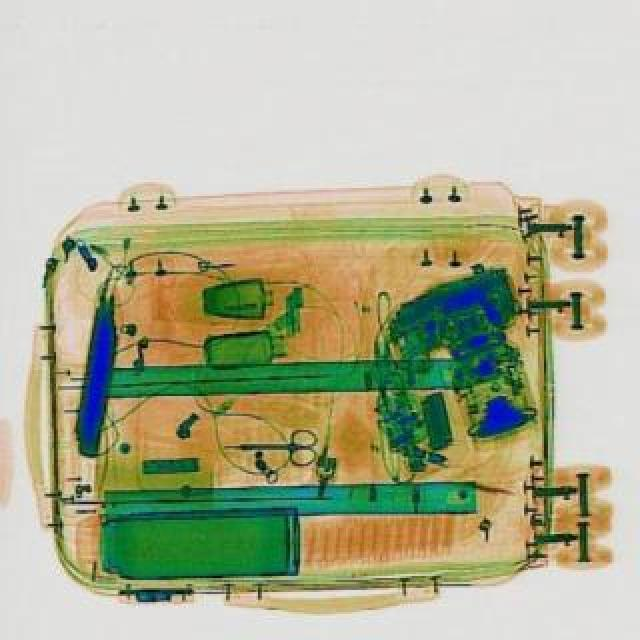pliers: (222, 426, 318, 466)
